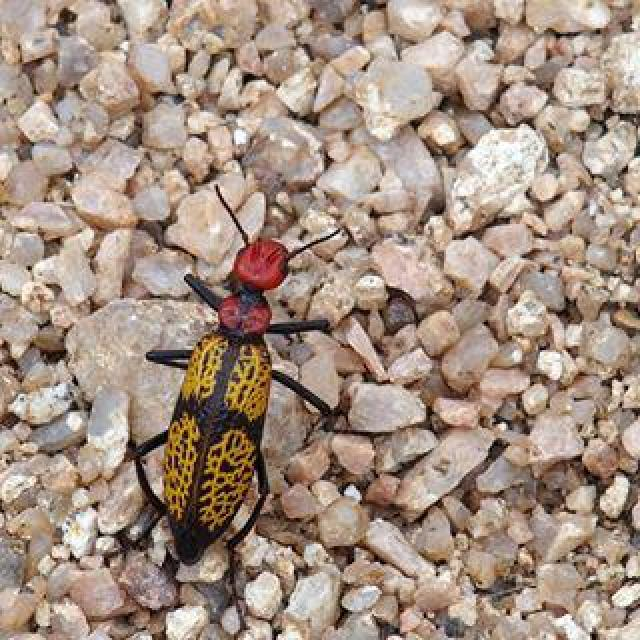BlisterBeetle-Adult-: (127, 175, 347, 577)
